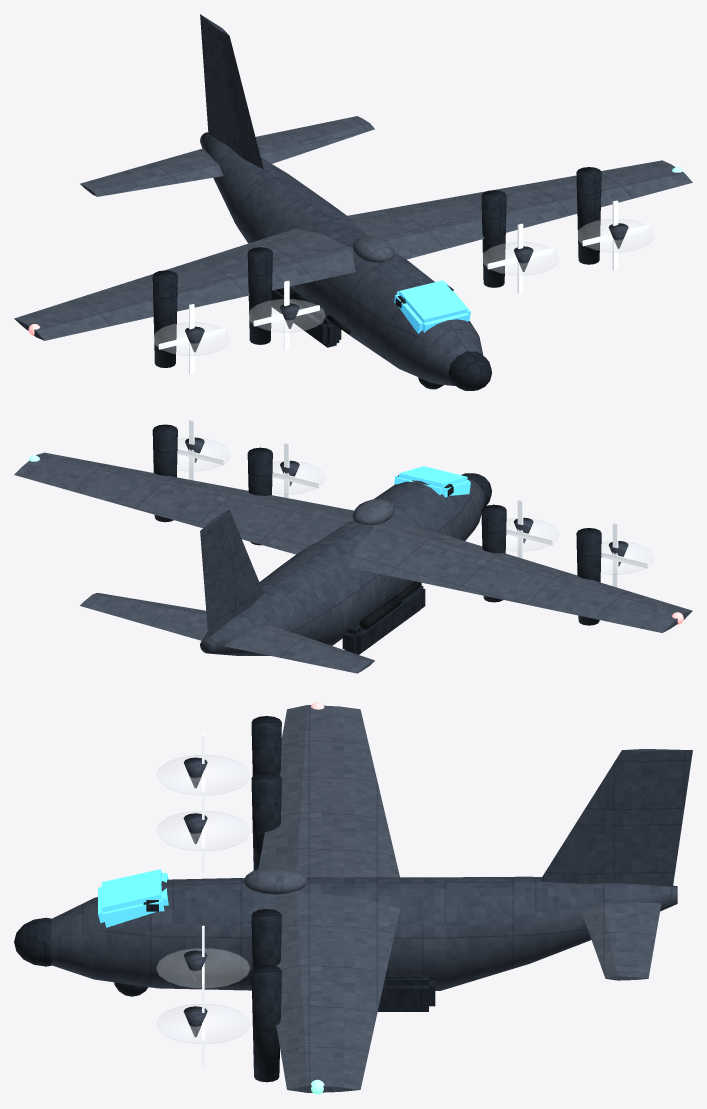
The model's file is air_ac130.glb.
The picture shows the model from 3 angles, top to bottom: view 1: azimuth 30°, elevation 25°; view 2: azimuth 150°, elevation 25°; view 3: azimuth 270°, elevation 25°; orthographic projection. The views are drawn at different scales.
Parts seen in each view (by area): view 1: Ac130Fuselage, AcWing_R, AcWing_L, AcVerticalTail, AcTailStab_R, AcTailStab_L, CockpitGreenhouse, TurboNacelle_3, TurboNacelle_0, TurboNacelle_1, TurboNacelle_2, PropBlur_0 (+6 smaller); view 2: Ac130Fuselage, AcWing_R, AcWing_L, AcVerticalTail, AcTailStab_R, AcTailStab_L, GearSponson_-1, TurboNacelle_1, TurboNacelle_3, CockpitGreenhouse, TurboNacelle_0, TurboNacelle_2 (+6 smaller); view 3: Ac130Fuselage, AcWing_L, AcWing_R, AcVerticalTail, AcTailStab_L, TurboNacelle_3, CockpitGreenhouse, PropBlur_0, PropBlur_3, PropBlur_1, PropBlur_2, TurboNacelle_0 (+5 smaller).
Part boxes in pixels (x1,y1,x2,y2): Ac130Fuselage: (200, 132, 483, 385); AcWing_R: (14, 228, 355, 340); AcWing_L: (347, 160, 692, 259); AcVerticalTail: (200, 14, 263, 169); AcTailStab_R: (80, 148, 223, 196); AcTailStab_L: (255, 116, 374, 163); CockpitGreenhouse: (394, 280, 470, 333); TurboNacelle_3: (576, 167, 601, 264); TurboNacelle_0: (247, 247, 272, 344); TurboNacelle_1: (152, 270, 177, 367); TurboNacelle_2: (481, 190, 506, 287); PropBlur_0: (248, 299, 325, 332); Ac130Fuselage: (200, 478, 484, 655); AcWing_R: (347, 523, 692, 632); AcWing_L: (14, 452, 353, 554); AcVerticalTail: (200, 509, 263, 637); AcTailStab_R: (223, 625, 374, 673); AcTailStab_L: (80, 592, 207, 640); GearSponson_-1: (342, 581, 425, 654); TurboNacelle_1: (576, 528, 601, 625); TurboNacelle_3: (152, 424, 177, 522); CockpitGreenhouse: (394, 466, 470, 497); TurboNacelle_0: (481, 504, 506, 602); TurboNacelle_2: (247, 447, 272, 545); Ac130Fuselage: (50, 876, 677, 990); AcWing_L: (256, 890, 400, 1092); AcWing_R: (258, 705, 399, 877); AcVerticalTail: (540, 749, 692, 886); AcTailStab_L: (581, 902, 661, 980); TurboNacelle_3: (251, 964, 281, 1082); CockpitGreenhouse: (98, 869, 168, 927); PropBlur_0: (156, 811, 249, 850); PropBlur_3: (156, 1004, 249, 1043); PropBlur_1: (156, 755, 249, 794); PropBlur_2: (156, 948, 249, 987); TurboNacelle_0: (251, 771, 281, 870).
Size of the model in its own units: 7.16 by 2.13 by 5.35.
9 materials, 4 textured.
